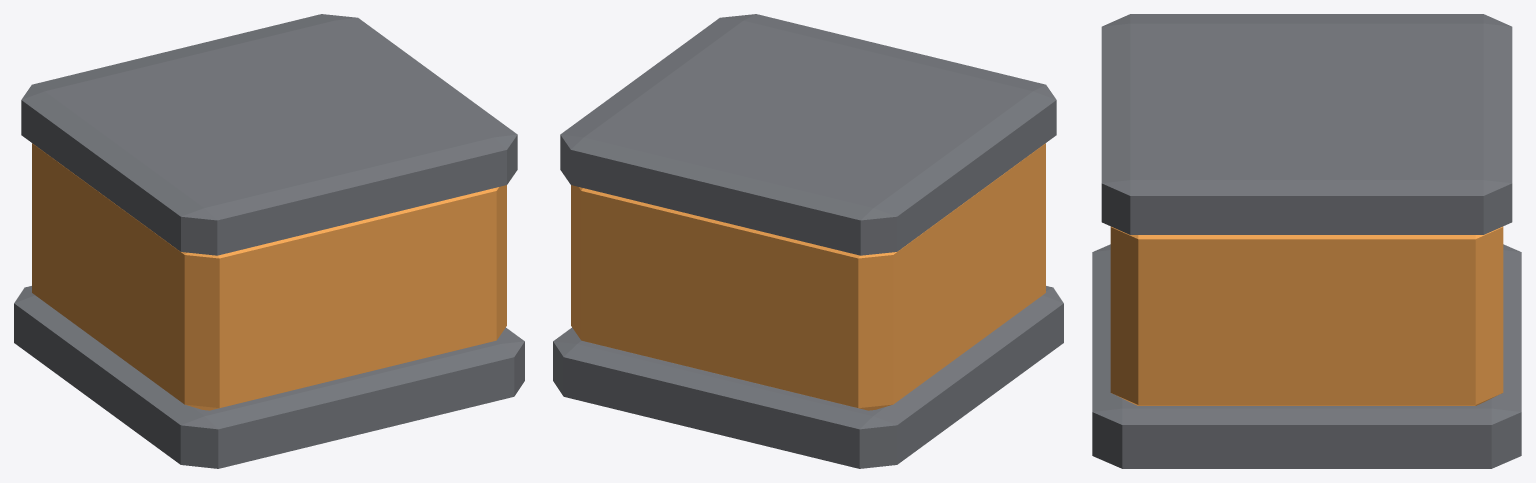
The model's file is b11_half_whiskey_barrel_planter.glb.
3 views of the same model, side by side, from view 1: azimuth 30°, elevation 25°; view 2: azimuth 150°, elevation 25°; view 3: azimuth 270°, elevation 25° (orthographic). The views are drawn at different scales.
Visible parts, largest first — view 1: b11_half_whiskey_barrel_planter; view 2: b11_half_whiskey_barrel_planter; view 3: b11_half_whiskey_barrel_planter.
Part boxes in pixels (left/top/right/bottom): b11_half_whiskey_barrel_planter: left=14, top=14, right=524, bottom=468; b11_half_whiskey_barrel_planter: left=553, top=14, right=1063, bottom=468; b11_half_whiskey_barrel_planter: left=1092, top=14, right=1521, bottom=468.
Bounding box in the file's own units: 0.685 × 0.477 × 0.668.
